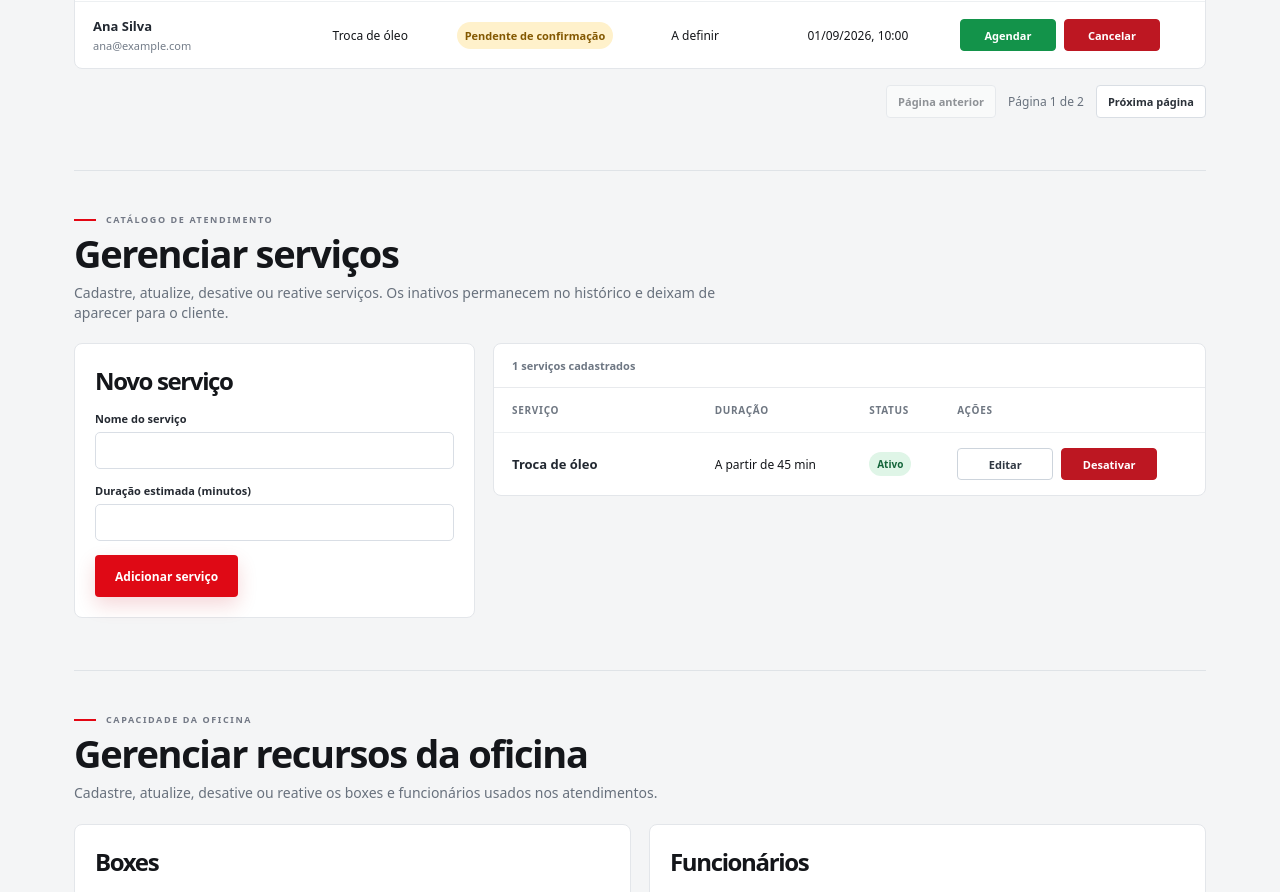
Scenario: administrator can create, edit, and deactivate a service
The width and height of the screenshot is (1280, 892).
(page scrolled)
Expected: the heading "Gerenciar serviços" is shown, [74,227,398,279]
Expected: the button with aria-label "Editar serviço Troca de óleo" is shown, [957,448,1053,480]
Type "Revisão completa" into the field labelled "Nome do serviço". click: coordinates (274, 451)
box: [95,432,454,470]
Type "90" into the number field labelled "Duração estimada (minutos)". click: coordinates (274, 523)
box: [95,504,454,542]
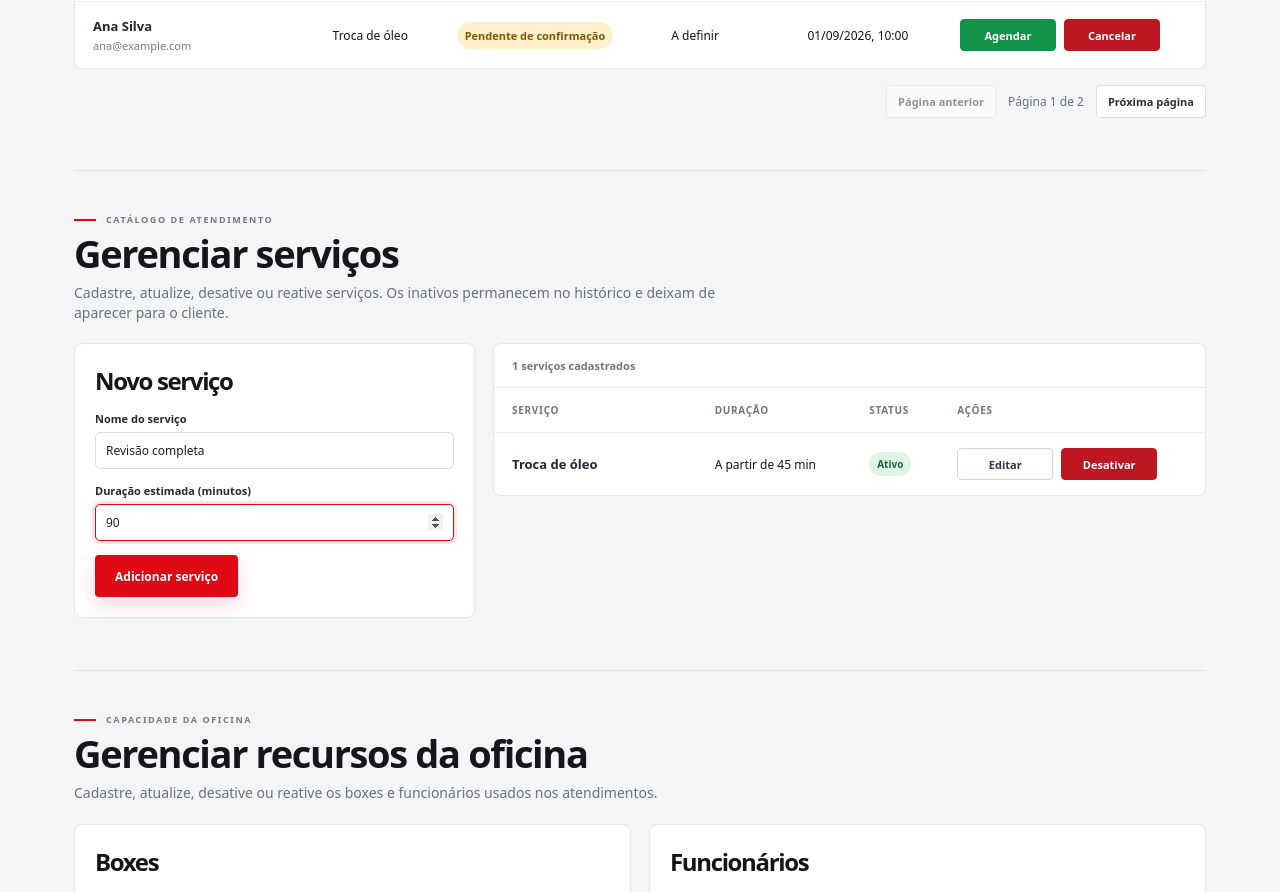
Click the button "Adicionar serviço". click: coordinates (167, 576)
box: [95,556,238,598]
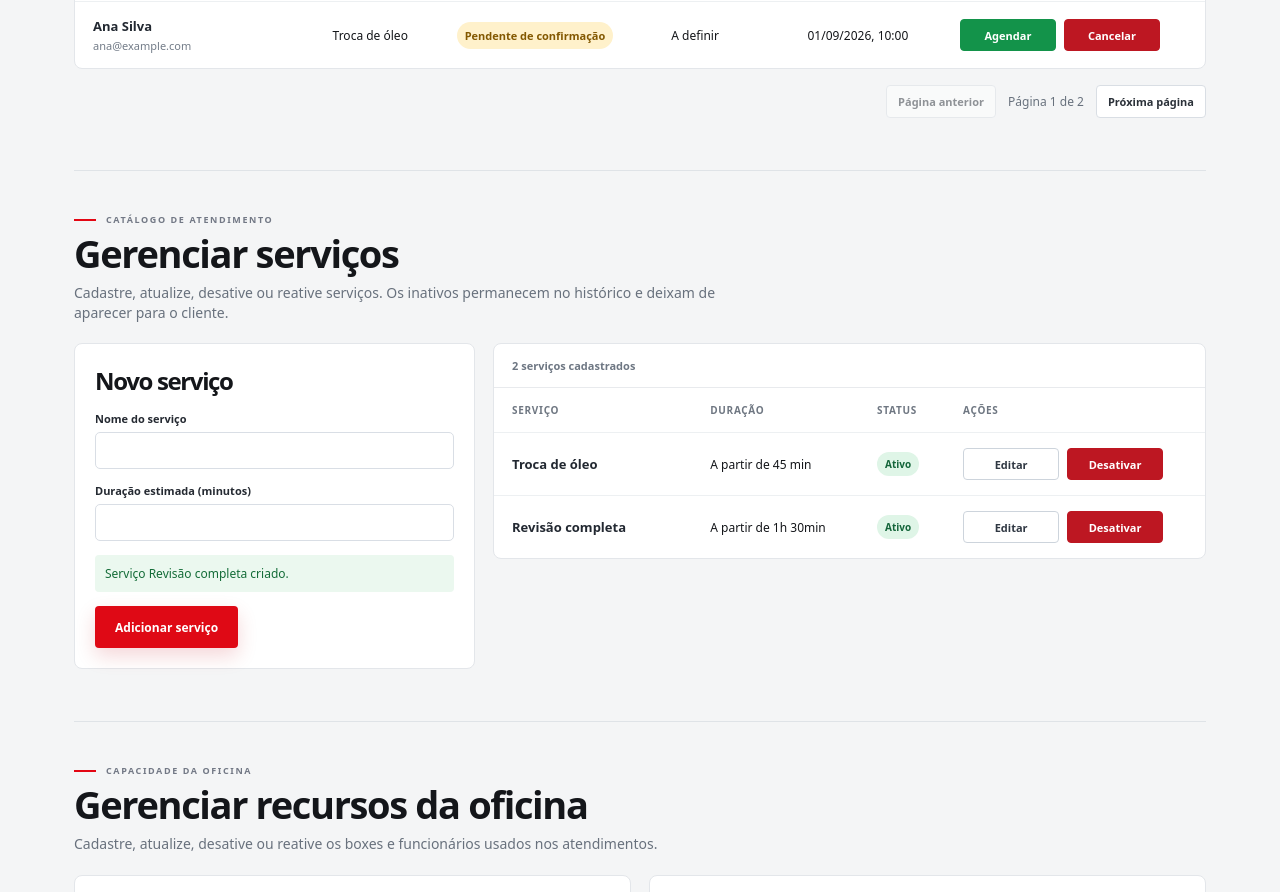
Expected: the message reads "Serviço Revisão completa criado.", [105,566,289,582]
Expected: the text "Revisão completa" is shown, [512,518,626,536]
Click the button with aria-label "Editar serviço Revisão completa". click: coordinates (1011, 528)
box: [963,512,1059,544]
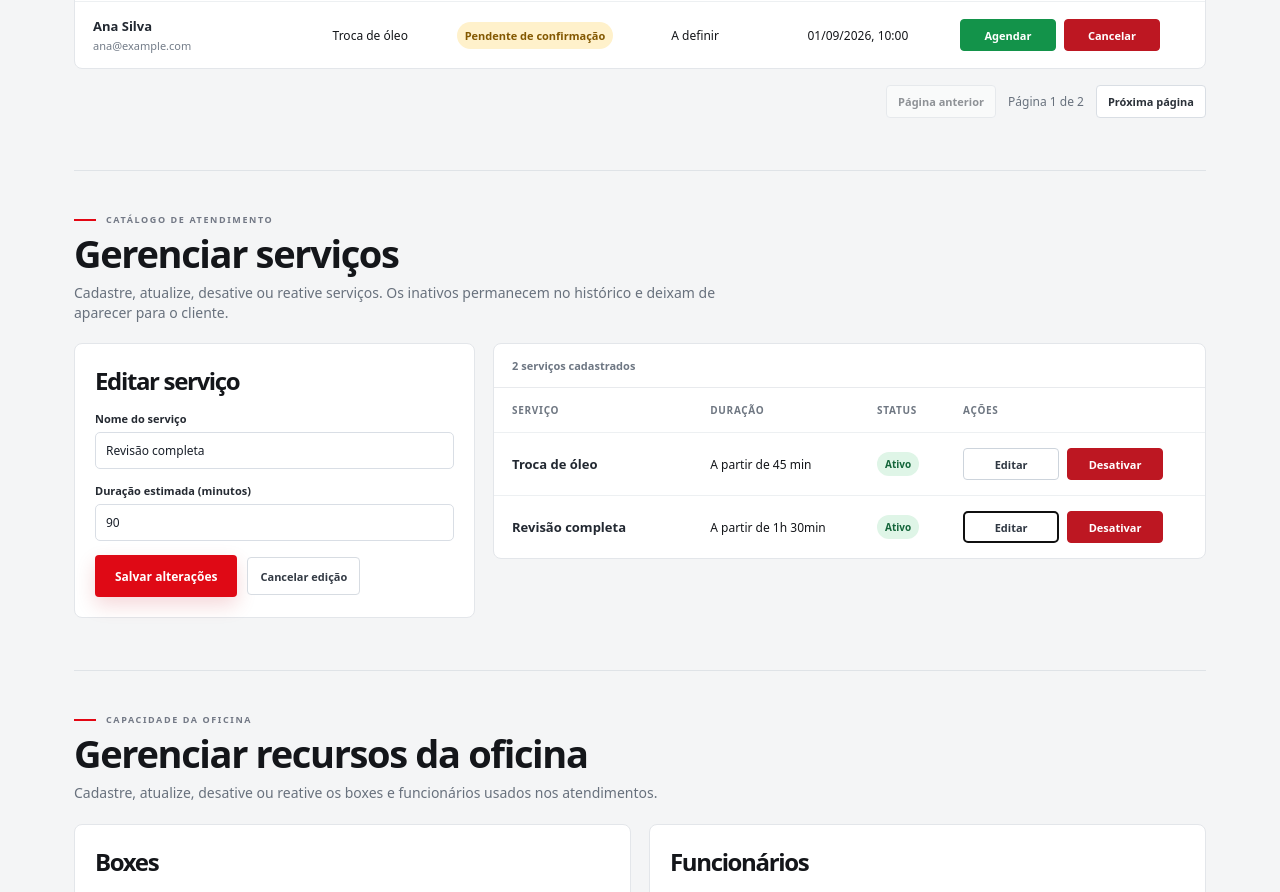
Replace the text in the field labelled "Nome do serviço" with "Revisão premium". click: coordinates (274, 451)
box: [95,432,454,470]
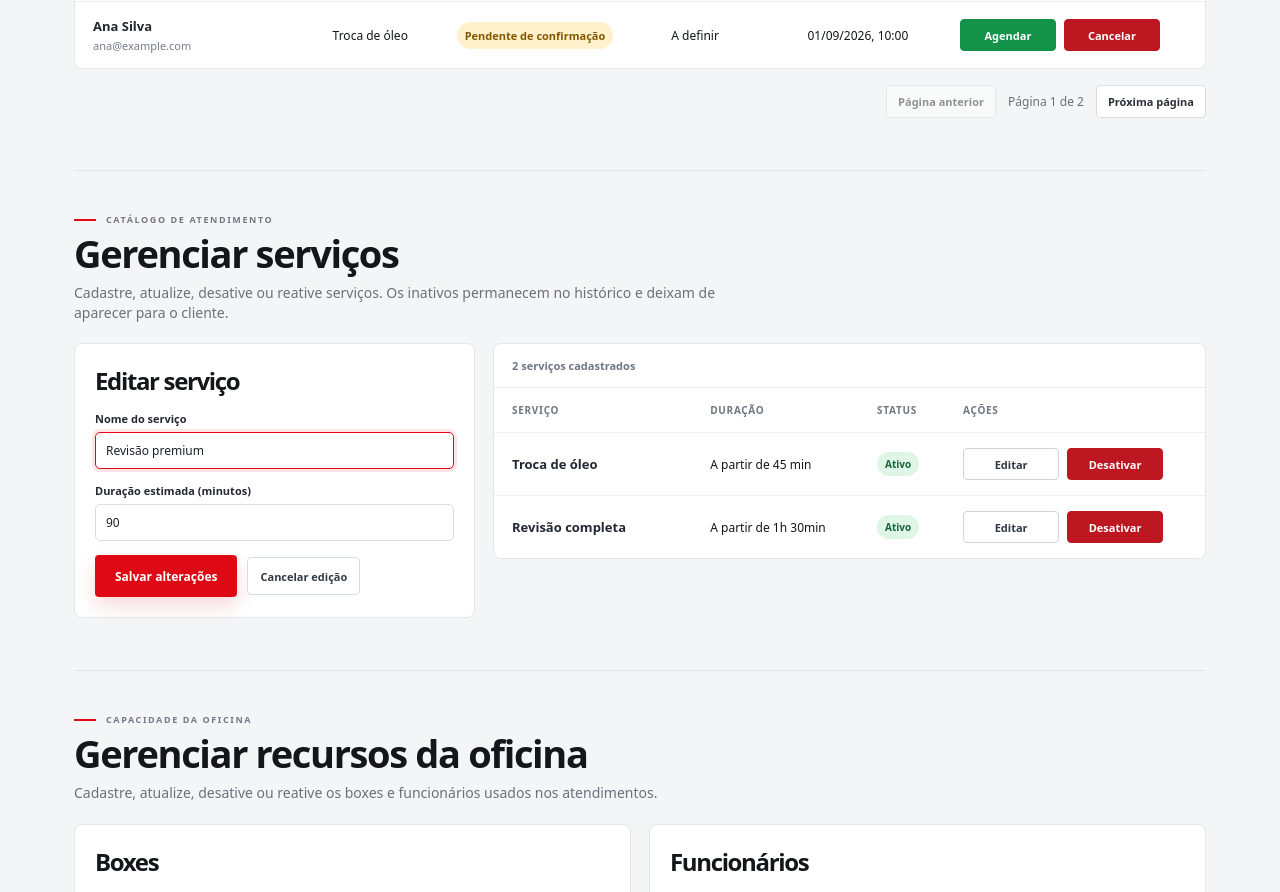
Click the button "Salvar alterações". click: coordinates (166, 576)
box: [95,556,238,598]
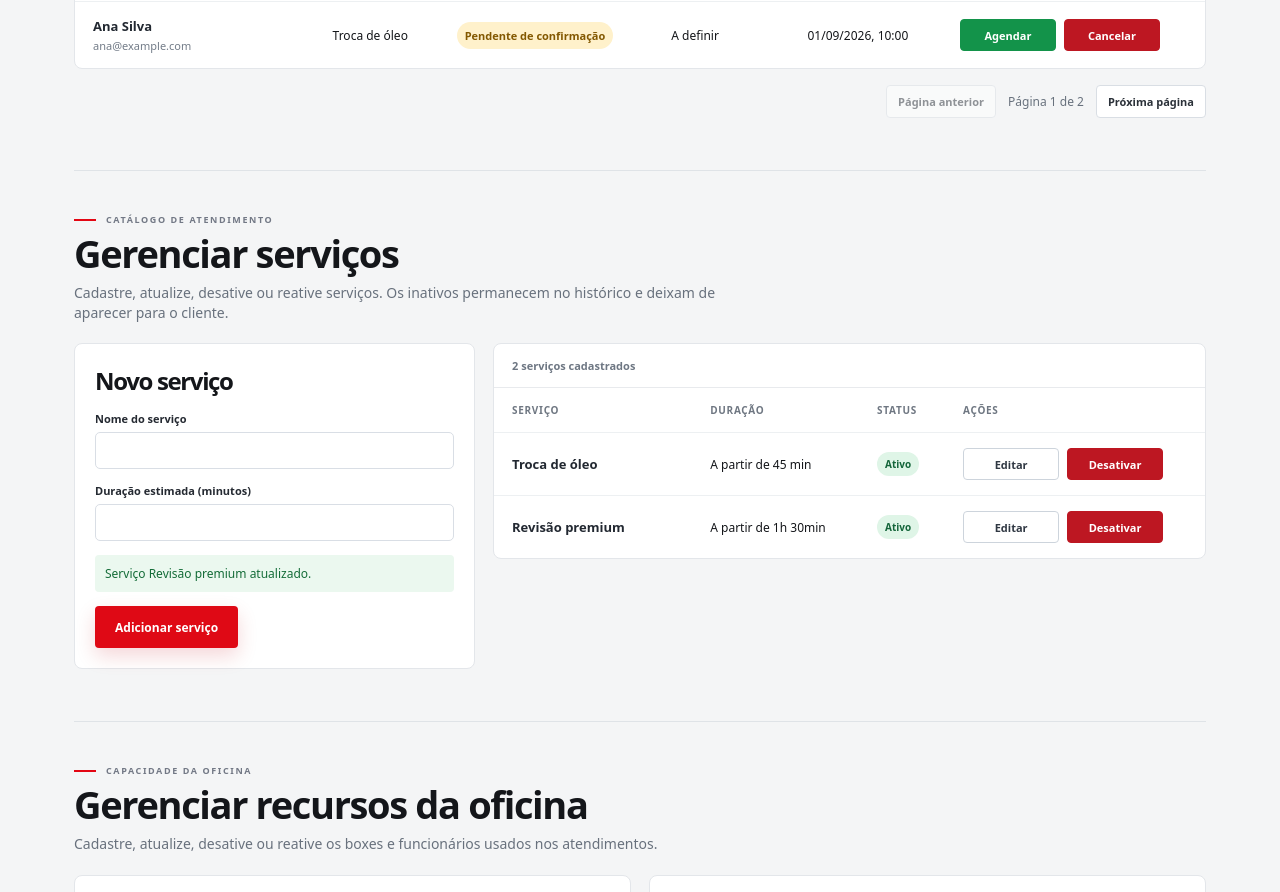
Expected: the message reads "Serviço Revisão premium atualizado.", [105,566,311,582]
Expected: the text "Revisão premium" is shown, [512,518,625,536]
Click the button with aria-label "Desativar serviço Revisão premium". click: coordinates (1115, 528)
box: [1067,512,1163,544]
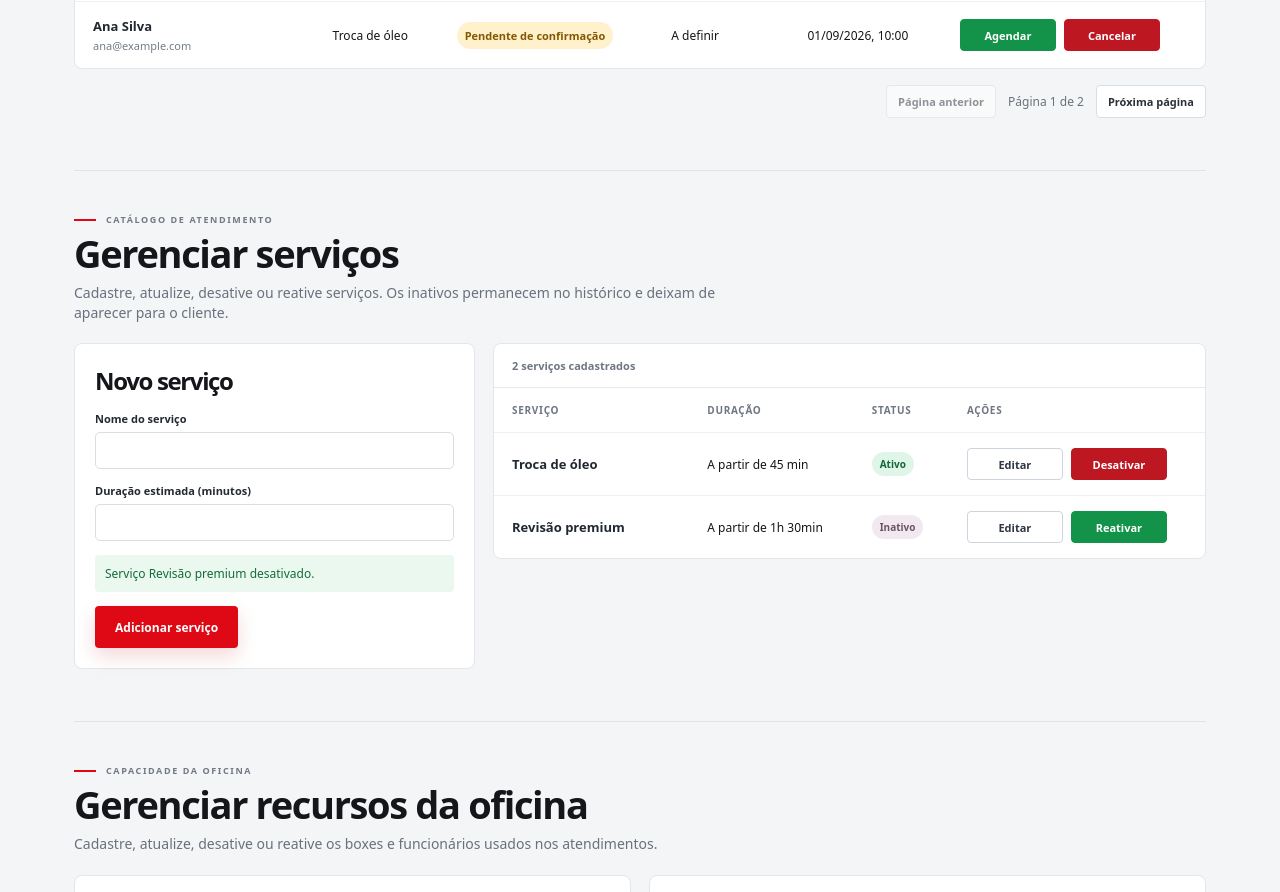
Expected: the message reads "Serviço Revisão premium desativado.", [105,566,314,582]
Expected: the text "Inativo" is shown, [872,516,924,540]
